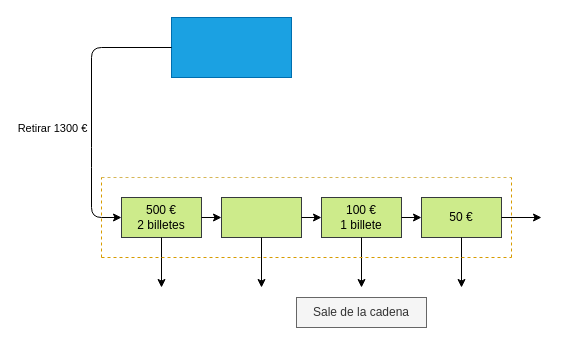
The diagram is 567 pixels wide and 345 high, and some of its shapes have lost their labels. Each missing label, with the box of its shape:
200 € 1 billete: (220, 196, 302, 238)
CAJERO: (170, 16, 292, 78)
